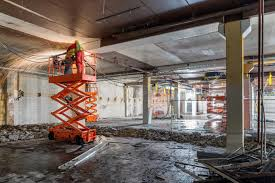Scissor Lift: (48, 49, 99, 146)
